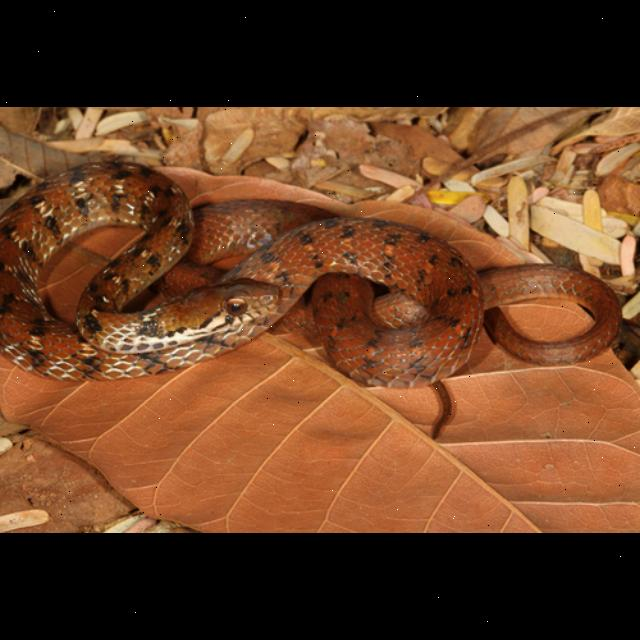snake: (0, 156, 624, 398)
